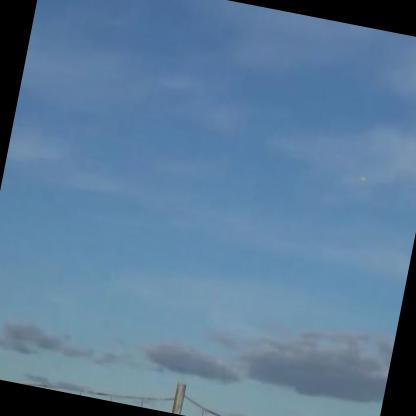plane: (353, 168, 372, 188)
